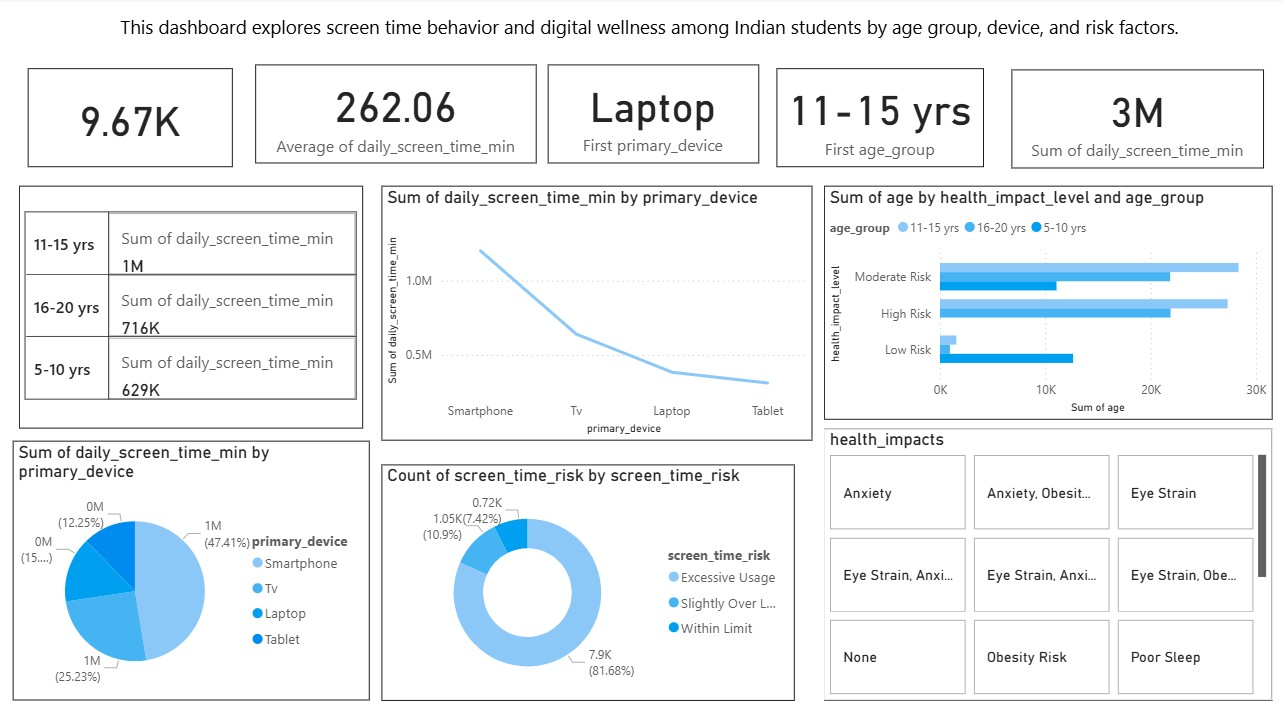

What the dashboard file says about the page in this screenshot:
{"tool":"powerbi","page":{"name":"Page 1","canvas":[1280,720],"ordinal":0},"visuals":[{"type":"card","title":"Total no of Kids","fields":{"Values":["CountNonNull(Indian_Kids_Screen_Time_Cleaned.age)"]},"box":[28.8,71.2,203.8,98.8],"z":0},{"type":"card","fields":{"Values":["Avg(Indian_Kids_Screen_Time_Cleaned.daily_screen_time_min)"]},"box":[255,67.5,280,98.8],"z":1},{"type":"card","fields":{"Values":["Min(Indian_Kids_Screen_Time_Cleaned.primary_device)"]},"box":[546.2,67.5,210,98.8],"z":2},{"type":"card","fields":{"Values":["Min(Indian_Kids_Screen_Time_Cleaned.age_group)"]},"box":[773.8,71.2,206.2,98.8],"z":3},{"type":"card","fields":{"Values":["Sum(Indian_Kids_Screen_Time_Cleaned.daily_screen_time_min)"]},"box":[1007.5,72.5,251.2,98.8],"z":4},{"type":"clusteredBarChart","fields":{"Category":["Indian_Kids_Screen_Time_Cleaned.health_impact_level"],"Series":["Indian_Kids_Screen_Time_Cleaned.age_group"],"Y":["Sum(Indian_Kids_Screen_Time_Cleaned.age)"]},"box":[821.2,187.5,446.2,232.5],"z":6},{"type":"advancedSlicerVisual","fields":{"Values":["Indian_Kids_Screen_Time_Cleaned.health_impacts"]},"box":[821.2,428.8,446.2,271.2],"z":7},{"type":"lineChart","fields":{"Category":["Indian_Kids_Screen_Time_Cleaned.primary_device"],"Y":["Sum(Indian_Kids_Screen_Time_Cleaned.daily_screen_time_min)"]},"box":[381.2,187.5,428.8,253.8],"z":8},{"type":"pieChart","fields":{"Y":["Sum(Indian_Kids_Screen_Time_Cleaned.daily_screen_time_min)"],"Category":["Indian_Kids_Screen_Time_Cleaned.primary_device"]},"box":[13.8,441.2,355,258.8],"z":9},{"type":"cardVisual","fields":{"Rows":["Indian_Kids_Screen_Time_Cleaned.age_group"],"Data":["Sum(Indian_Kids_Screen_Time_Cleaned.daily_screen_time_min)"]},"box":[20,187.5,342.5,241.2],"z":10},{"type":"donutChart","fields":{"Category":["Indian_Kids_Screen_Time_Cleaned.screen_time_risk"],"Y":["CountNonNull(Indian_Kids_Screen_Time_Cleaned.screen_time_risk)"]},"box":[381.2,465,411.2,235],"z":11},{"type":"textbox","box":[28.8,12.5,1237.5,41.2],"z":12}]}

Visuals, with their boxes in screenshot pixels (x1, y1, x2, y2), scaled from the page's 1280x720 canvas onto the 1283x715 screenshot:
"Total no of Kids" card: {"x1": 29, "y1": 71, "x2": 233, "y2": 169}
card - Avg(Indian_Kids_Screen_Time_Cleaned.daily_screen_time_min): {"x1": 256, "y1": 67, "x2": 536, "y2": 165}
card - Min(Indian_Kids_Screen_Time_Cleaned.primary_device): {"x1": 547, "y1": 67, "x2": 758, "y2": 165}
card - Min(Indian_Kids_Screen_Time_Cleaned.age_group): {"x1": 776, "y1": 71, "x2": 982, "y2": 169}
card - Sum(Indian_Kids_Screen_Time_Cleaned.daily_screen_time_min): {"x1": 1010, "y1": 72, "x2": 1262, "y2": 170}
clusteredBarChart - Indian_Kids_Screen_Time_Cleaned.health_impact_level x Indian_Kids_Screen_Time_Cleaned.age_group: {"x1": 823, "y1": 186, "x2": 1270, "y2": 417}
advancedSlicerVisual - Indian_Kids_Screen_Time_Cleaned.health_impacts: {"x1": 823, "y1": 426, "x2": 1270, "y2": 695}
lineChart - Indian_Kids_Screen_Time_Cleaned.primary_device x Sum(Indian_Kids_Screen_Time_Cleaned.daily_screen_time_min): {"x1": 382, "y1": 186, "x2": 812, "y2": 438}
pieChart - Sum(Indian_Kids_Screen_Time_Cleaned.daily_screen_time_min) x Indian_Kids_Screen_Time_Cleaned.primary_device: {"x1": 14, "y1": 438, "x2": 370, "y2": 695}
cardVisual - Indian_Kids_Screen_Time_Cleaned.age_group x Sum(Indian_Kids_Screen_Time_Cleaned.daily_screen_time_min): {"x1": 20, "y1": 186, "x2": 363, "y2": 426}
donutChart - Indian_Kids_Screen_Time_Cleaned.screen_time_risk x CountNonNull(Indian_Kids_Screen_Time_Cleaned.screen_time_risk): {"x1": 382, "y1": 462, "x2": 794, "y2": 695}
textbox: {"x1": 29, "y1": 12, "x2": 1269, "y2": 53}
